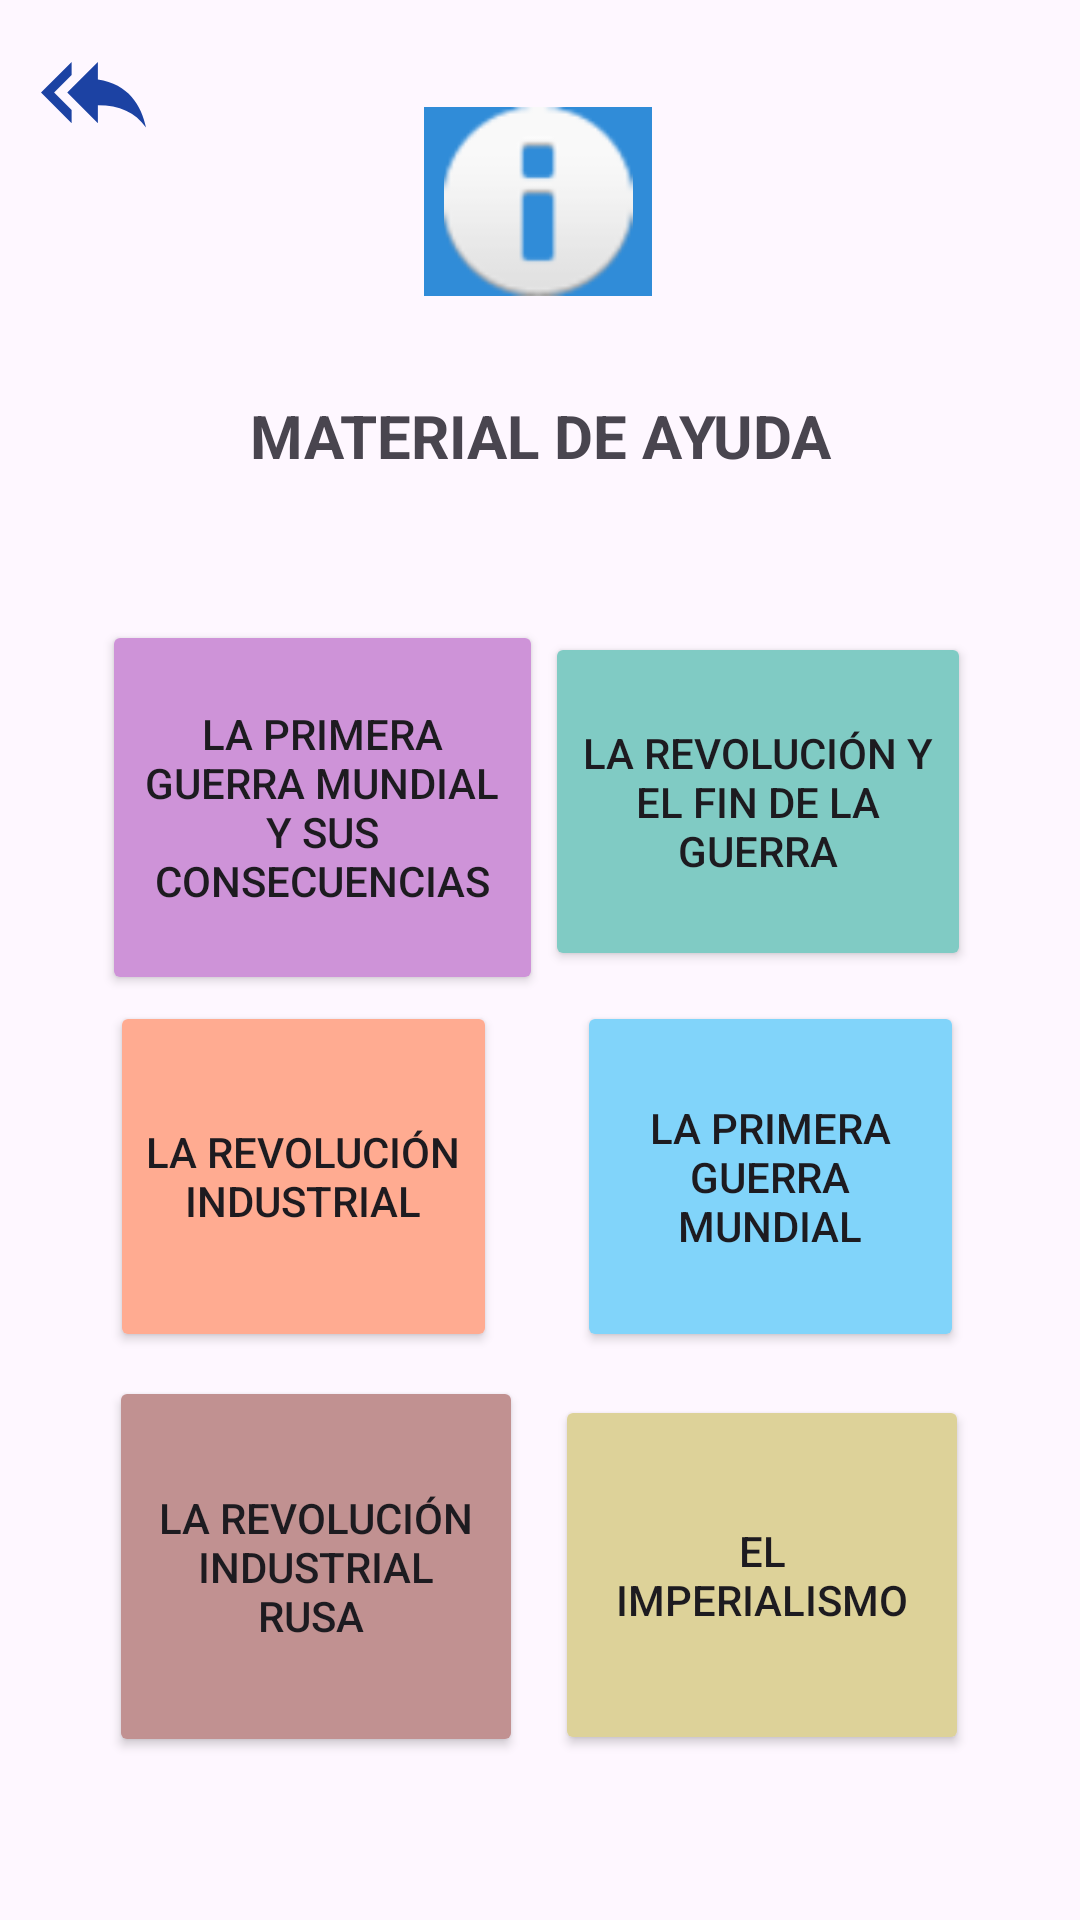

Icon bounding boxes for this 1080x1920 phone screenshot, format (x1, y1, x2, y2):
backimage: (41, 62, 146, 127)
info: (424, 107, 652, 296)
